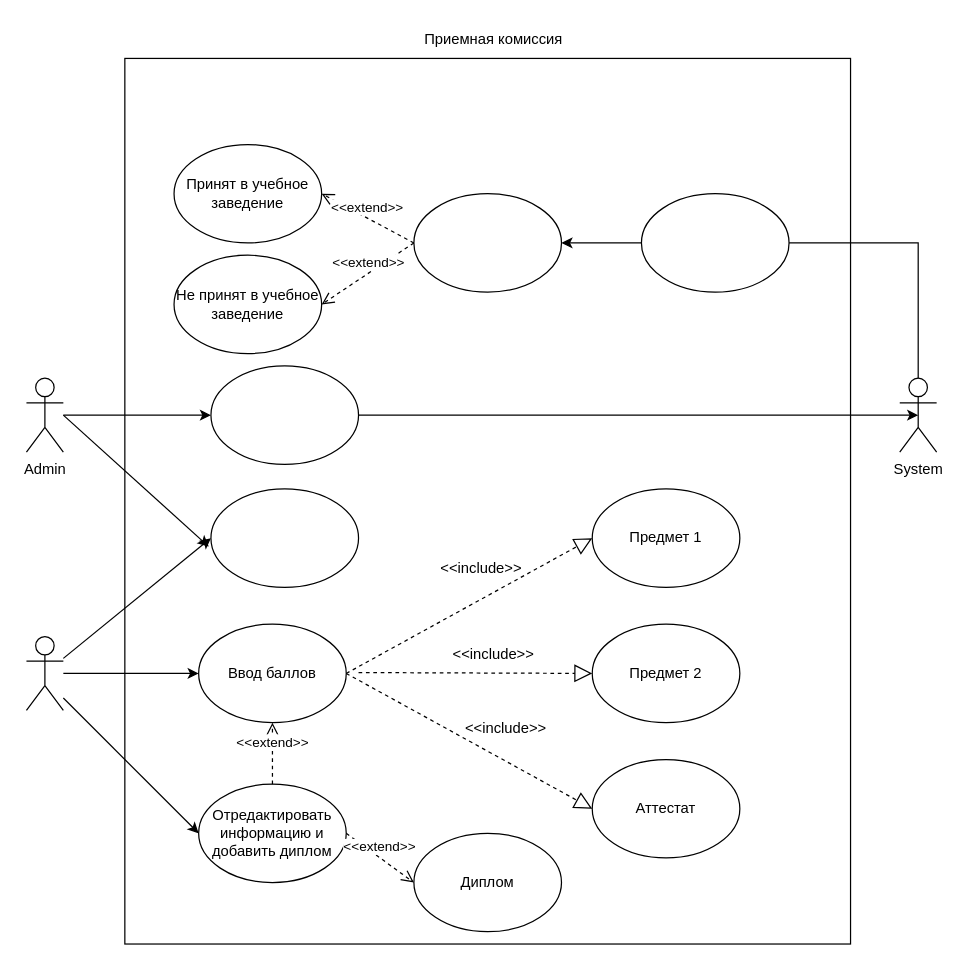
This 964x966 diagram has some shape labels left out. Each missing label, with the centre of its shape:
"Entrant" belongs at (x=44, y=672).
"Подсчет суммы баллов" belongs at (x=714, y=242).
"Просмотр документов" belongs at (x=284, y=537).
"Регистрация ведомости" belongs at (x=284, y=414).
"Список зачисленных абитуриентов" belongs at (x=487, y=242).
